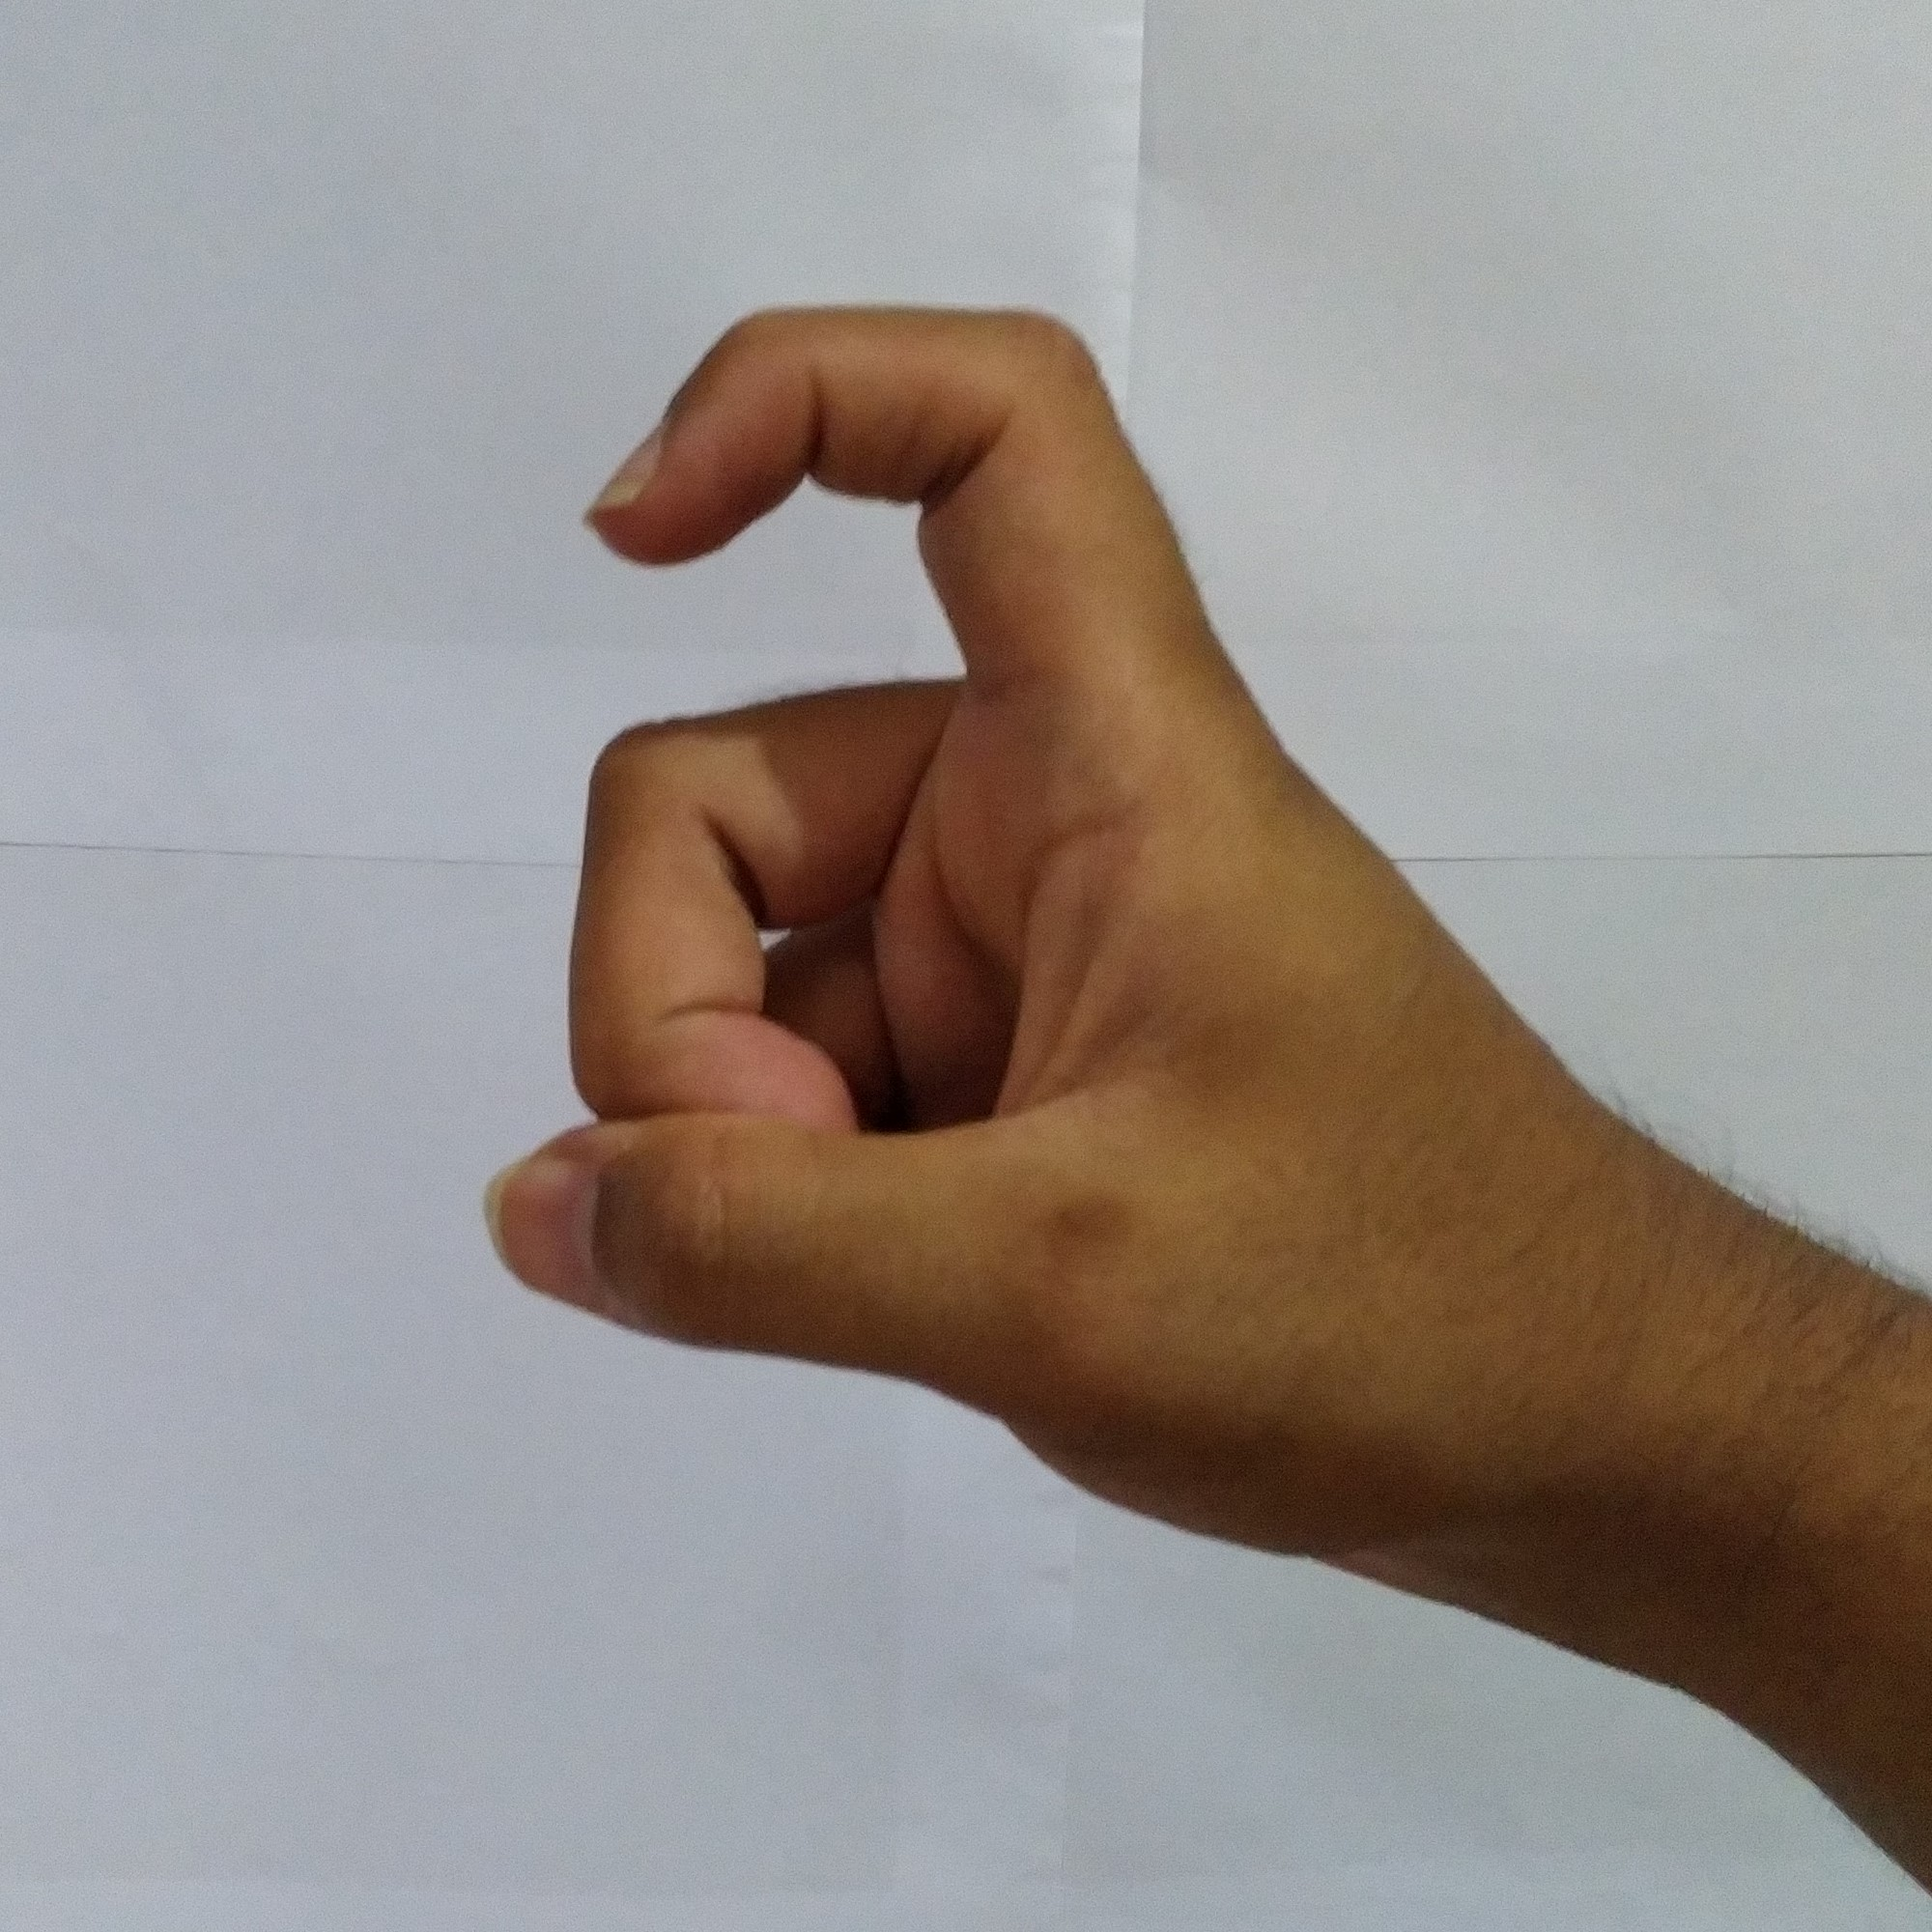X: (456, 258, 1603, 1546)
